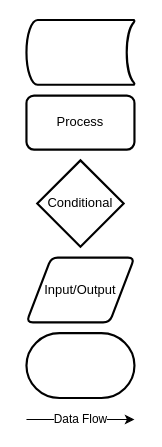
Image size: 162x447. Some labels were removed from this diagram. The shapes that lost their labels are listed below. From the top down, each one's centre as x and y in pixels, then its label:
At point 80,51: "Stored Data".
At point 80,365: "Termination".
